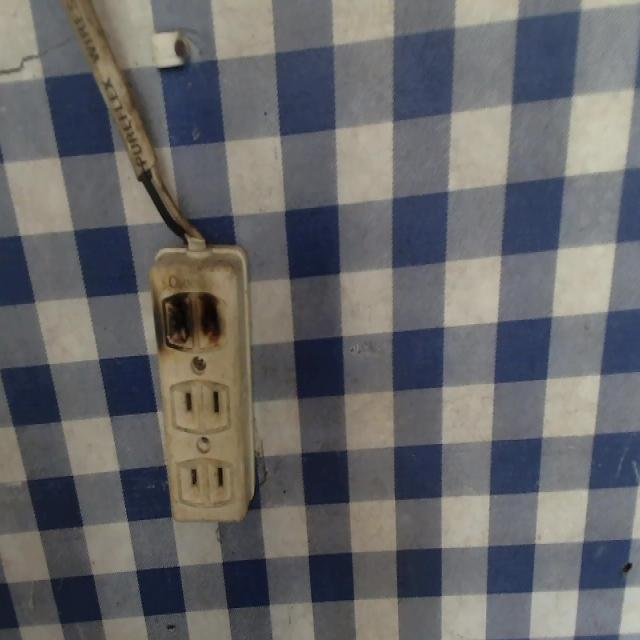-: (157, 277, 234, 355)
